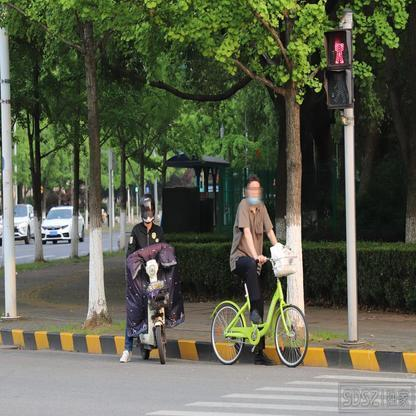target: (119, 195, 188, 370)
